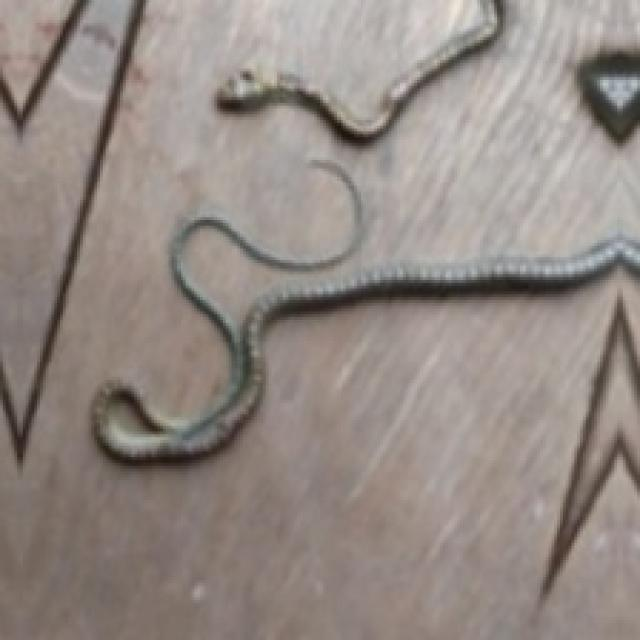paradise tree snake: (92, 160, 640, 461), (218, 0, 498, 139)
